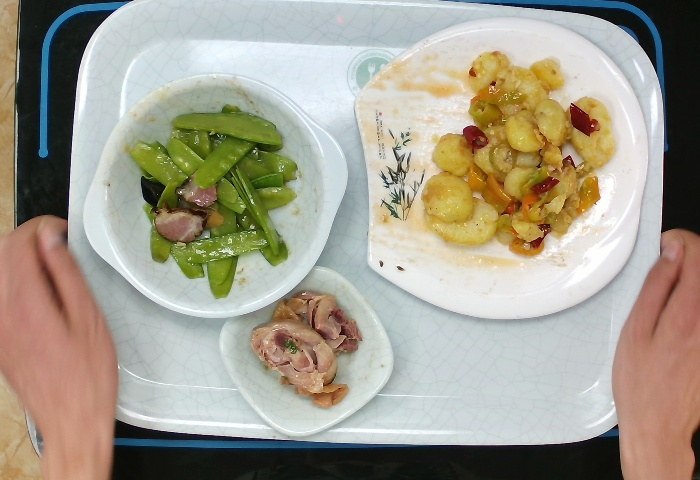JYsf-Mian_Pan: (352, 13, 652, 322)
JYsf-Shuang_Er_Wan: (78, 70, 352, 320)
JYsf-Si_Fang_Die: (214, 262, 397, 440)
